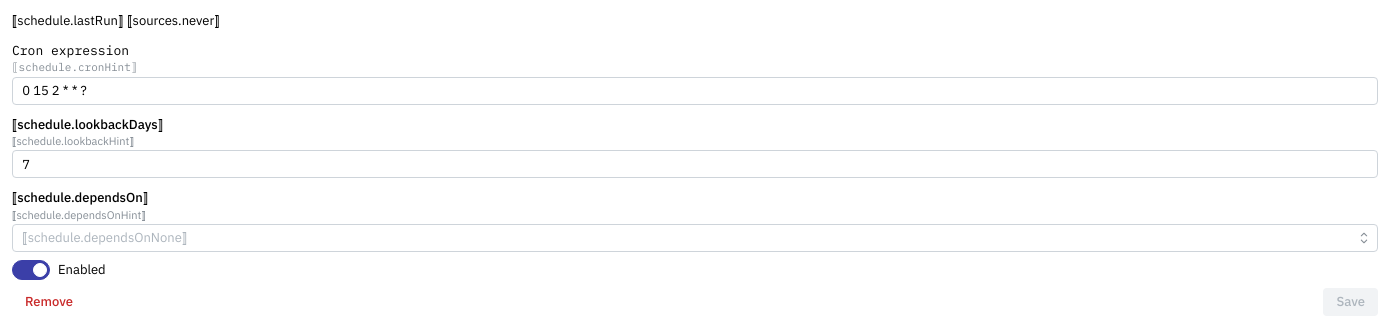
it: CollectionScheduleTab: L9-30 — лічильник розкладів з'єднання › правка наявного розкладу кеш з'єднань не чіпає (контроль)
Replace the text in the field labelled "Cron expression" with "0 0 3 * * ?" at (695, 90), box [12, 76, 1378, 104]
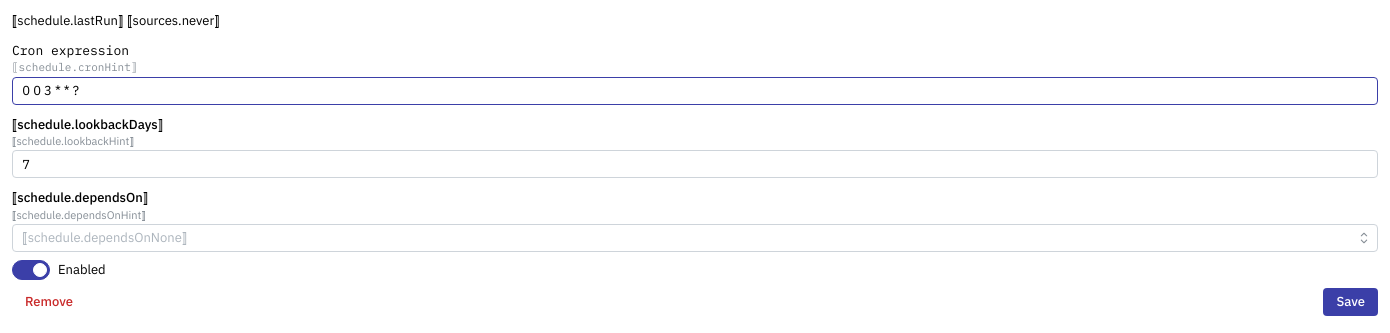
Click the button "Save" at (1351, 302), box [1323, 288, 1378, 316]
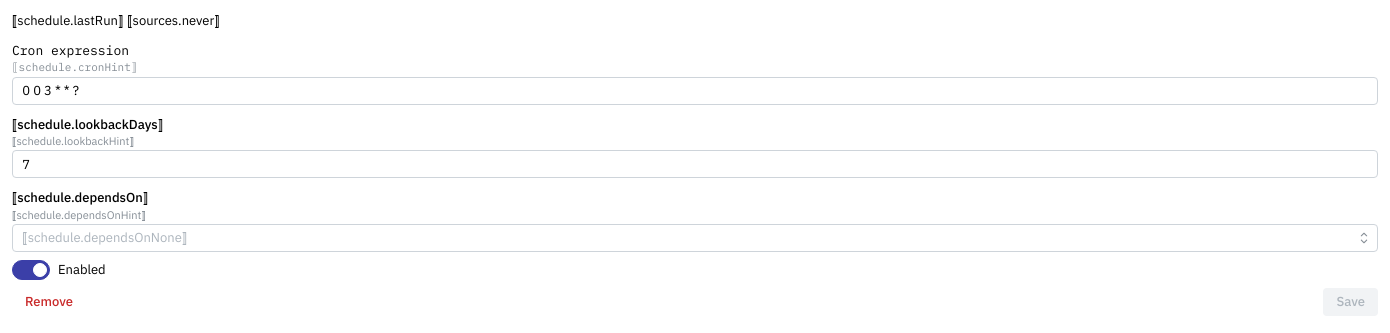
Now the button "Save" is disabled, box [1323, 288, 1378, 316]
